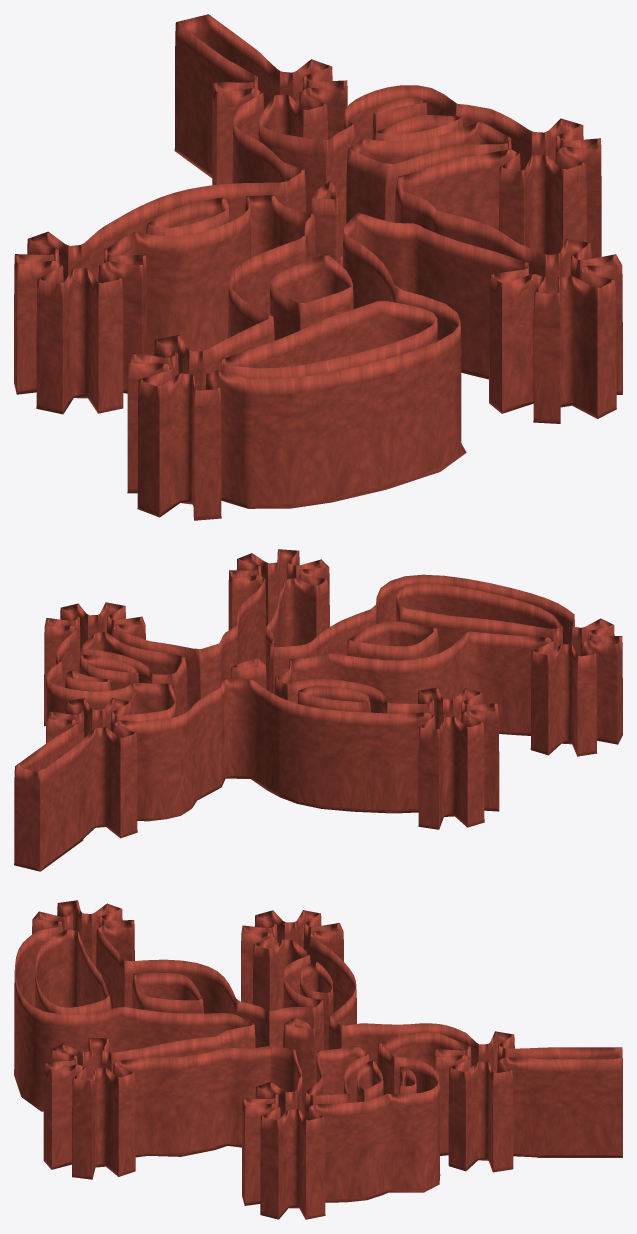
File: level1_new.fbx
3 renders of one model, top to bottom at view 1: azimuth 30°, elevation 25°; view 2: azimuth 150°, elevation 25°; view 3: azimuth 270°, elevation 25°, orthographic. The views are drawn at different scales.
Visible parts, largest first — view 1: polySurface6; view 2: polySurface6; view 3: polySurface6.
Boxes of the visible parts, box(x1,y1,x2,y2) form: polySurface6: box(14, 14, 622, 520); polySurface6: box(14, 549, 622, 871); polySurface6: box(14, 900, 622, 1219).
Size of the model in its own units: 138 by 28.67 by 160.
